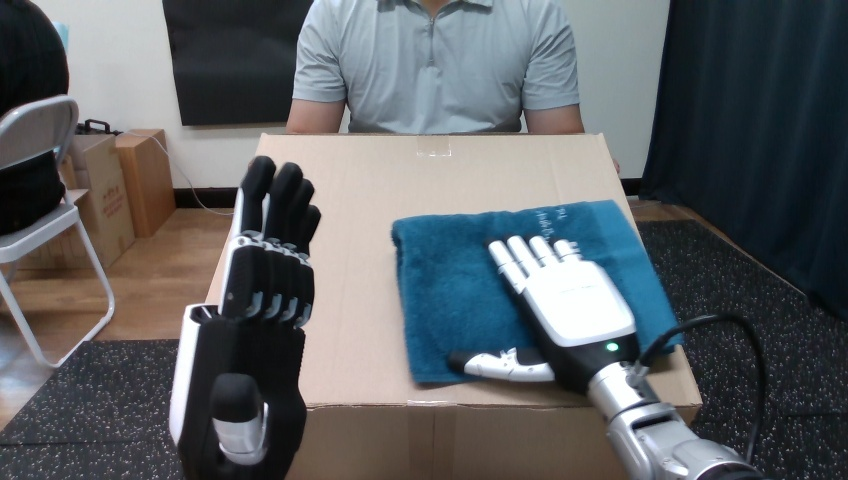left robot hand: (449, 235, 765, 479), (169, 156, 320, 478), (645, 320, 758, 459)
